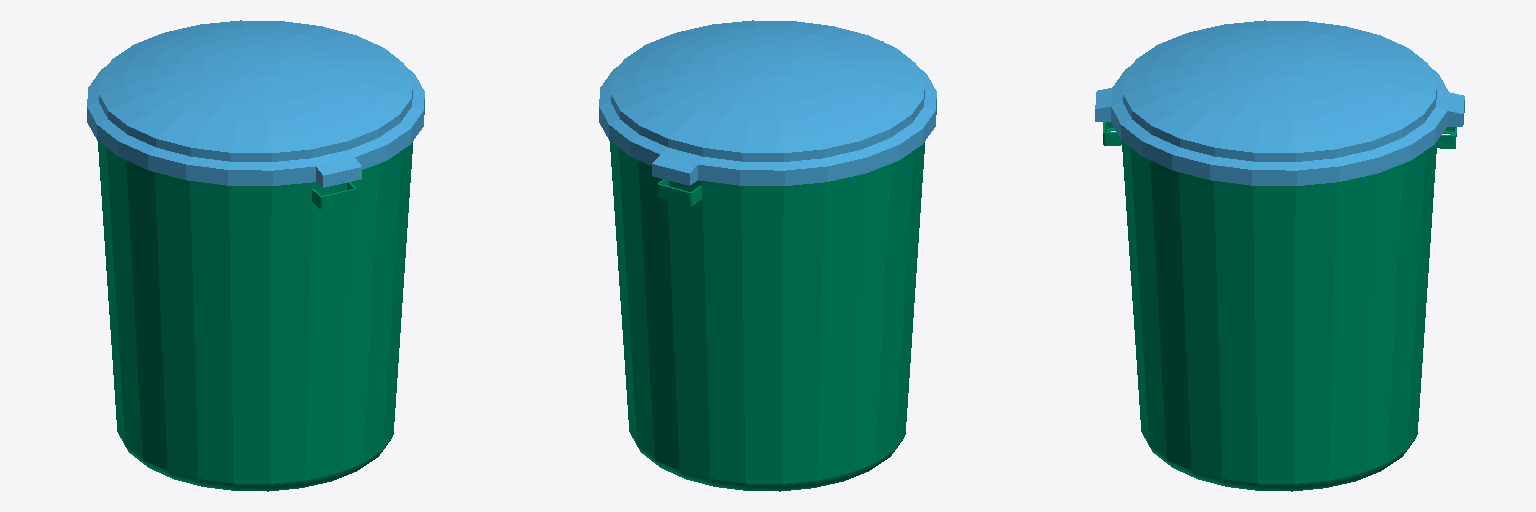
URDF robot description (partnet_8f641a48f55555f7a2105179d0c9d51e):
<?xml version="1.0" ?>
<robot name="partnet_8f641a48f55555f7a2105179d0c9d51e">
	<link name="base"/>
	<link name="link_0">
		<visual name="cover_lid-7">
			<origin xyz="0.02533215902820931 0 -0.004071576463764736"/>
			<geometry>
				<mesh filename="textured_objs/new-2.obj"/>
			</geometry>
		</visual>
		<visual name="cover_handle-8">
			<origin xyz="0.02533215902820931 0 -0.004071576463764736"/>
			<geometry>
				<mesh filename="textured_objs/new-0.obj"/>
			</geometry>
		</visual>
		<visual name="cover_handle-9">
			<origin xyz="0.02533215902820931 0 -0.004071576463764736"/>
			<geometry>
				<mesh filename="textured_objs/new-1.obj"/>
			</geometry>
		</visual>
		<collision>
			<origin xyz="0.02533215902820931 0 -0.004071576463764736"/>
			<geometry>
				<mesh filename="textured_objs/new-2.obj"/>
			</geometry>
		</collision>
		<collision>
			<origin xyz="0.02533215902820931 0 -0.004071576463764736"/>
			<geometry>
				<mesh filename="textured_objs/new-0.obj"/>
			</geometry>
		</collision>
		<collision>
			<origin xyz="0.02533215902820931 0 -0.004071576463764736"/>
			<geometry>
				<mesh filename="textured_objs/new-1.obj"/>
			</geometry>
		</collision>
	</link>
	<joint name="joint_0" type="prismatic">
		<origin xyz="-0.02533215902820931 0 0.004071576463764736"/>
		<axis xyz="0 1 0"/>
		<child link="link_0"/>
		<parent link="link_1"/>
		<limit lower="0" upper="0.06400000000000006"/>
	</joint>
	<link name="link_1">
		<visual name="container_bottom-5">
			<origin xyz="0 0 0"/>
			<geometry>
				<mesh filename="textured_objs/new-3.obj"/>
			</geometry>
		</visual>
		<visual name="container_bottom-5">
			<origin xyz="0 0 0"/>
			<geometry>
				<mesh filename="textured_objs/new-4.obj"/>
			</geometry>
		</visual>
		<visual name="container_handle-10">
			<origin xyz="0 0 0"/>
			<geometry>
				<mesh filename="textured_objs/original-3.obj"/>
			</geometry>
		</visual>
		<visual name="container_handle-11">
			<origin xyz="0 0 0"/>
			<geometry>
				<mesh filename="textured_objs/new-6.obj"/>
			</geometry>
		</visual>
		<visual name="container_box-12">
			<origin xyz="0 0 0"/>
			<geometry>
				<mesh filename="textured_objs/new-7.obj"/>
			</geometry>
		</visual>
		<collision>
			<origin xyz="0 0 0"/>
			<geometry>
				<mesh filename="textured_objs/new-3.obj"/>
			</geometry>
		</collision>
		<collision>
			<origin xyz="0 0 0"/>
			<geometry>
				<mesh filename="textured_objs/new-4.obj"/>
			</geometry>
		</collision>
		<collision>
			<origin xyz="0 0 0"/>
			<geometry>
				<mesh filename="textured_objs/original-3.obj"/>
			</geometry>
		</collision>
		<collision>
			<origin xyz="0 0 0"/>
			<geometry>
				<mesh filename="textured_objs/new-6.obj"/>
			</geometry>
		</collision>
		<collision>
			<origin xyz="0 0 0"/>
			<geometry>
				<mesh filename="textured_objs/new-7.obj"/>
			</geometry>
		</collision>
	</link>
	<joint name="joint_1" type="fixed">
		<origin rpy="1.570796326794897 0 -1.570796326794897" xyz="0 0 0"/>
		<child link="link_1"/>
		<parent link="base"/>
	</joint>
</robot>

--- What the picture shows (computed from the rendered views, not written in the file) ---
3 views of the same robot in one strip: view 1: azimuth 30°, elevation 25°; view 2: azimuth 150°, elevation 25°; view 3: azimuth 270°, elevation 25° (orthographic).
Model partnet_8f641a48f55555f7a2105179d0c9d51e with 3 links and 2 joints (1 prismatic, 1 fixed), rooted at base, posed every joint at zero.
Visible links, largest first — view 1: link_1, link_0; view 2: link_1, link_0; view 3: link_1, link_0.
Link boxes in pixels (x1=…): link_1: x1=98, y1=141, x2=412, y2=491; link_0: x1=87, y1=20, x2=424, y2=187; link_1: x1=610, y1=141, x2=924, y2=491; link_0: x1=599, y1=20, x2=936, y2=185; link_1: x1=1103, y1=122, x2=1456, y2=491; link_0: x1=1095, y1=20, x2=1464, y2=185.
Bounding box of the posed robot: 1.25 × 1.37 × 1.52 m (x, y, z).
8 mesh visuals loaded from 8 distinct referenced files (8 OBJ).
